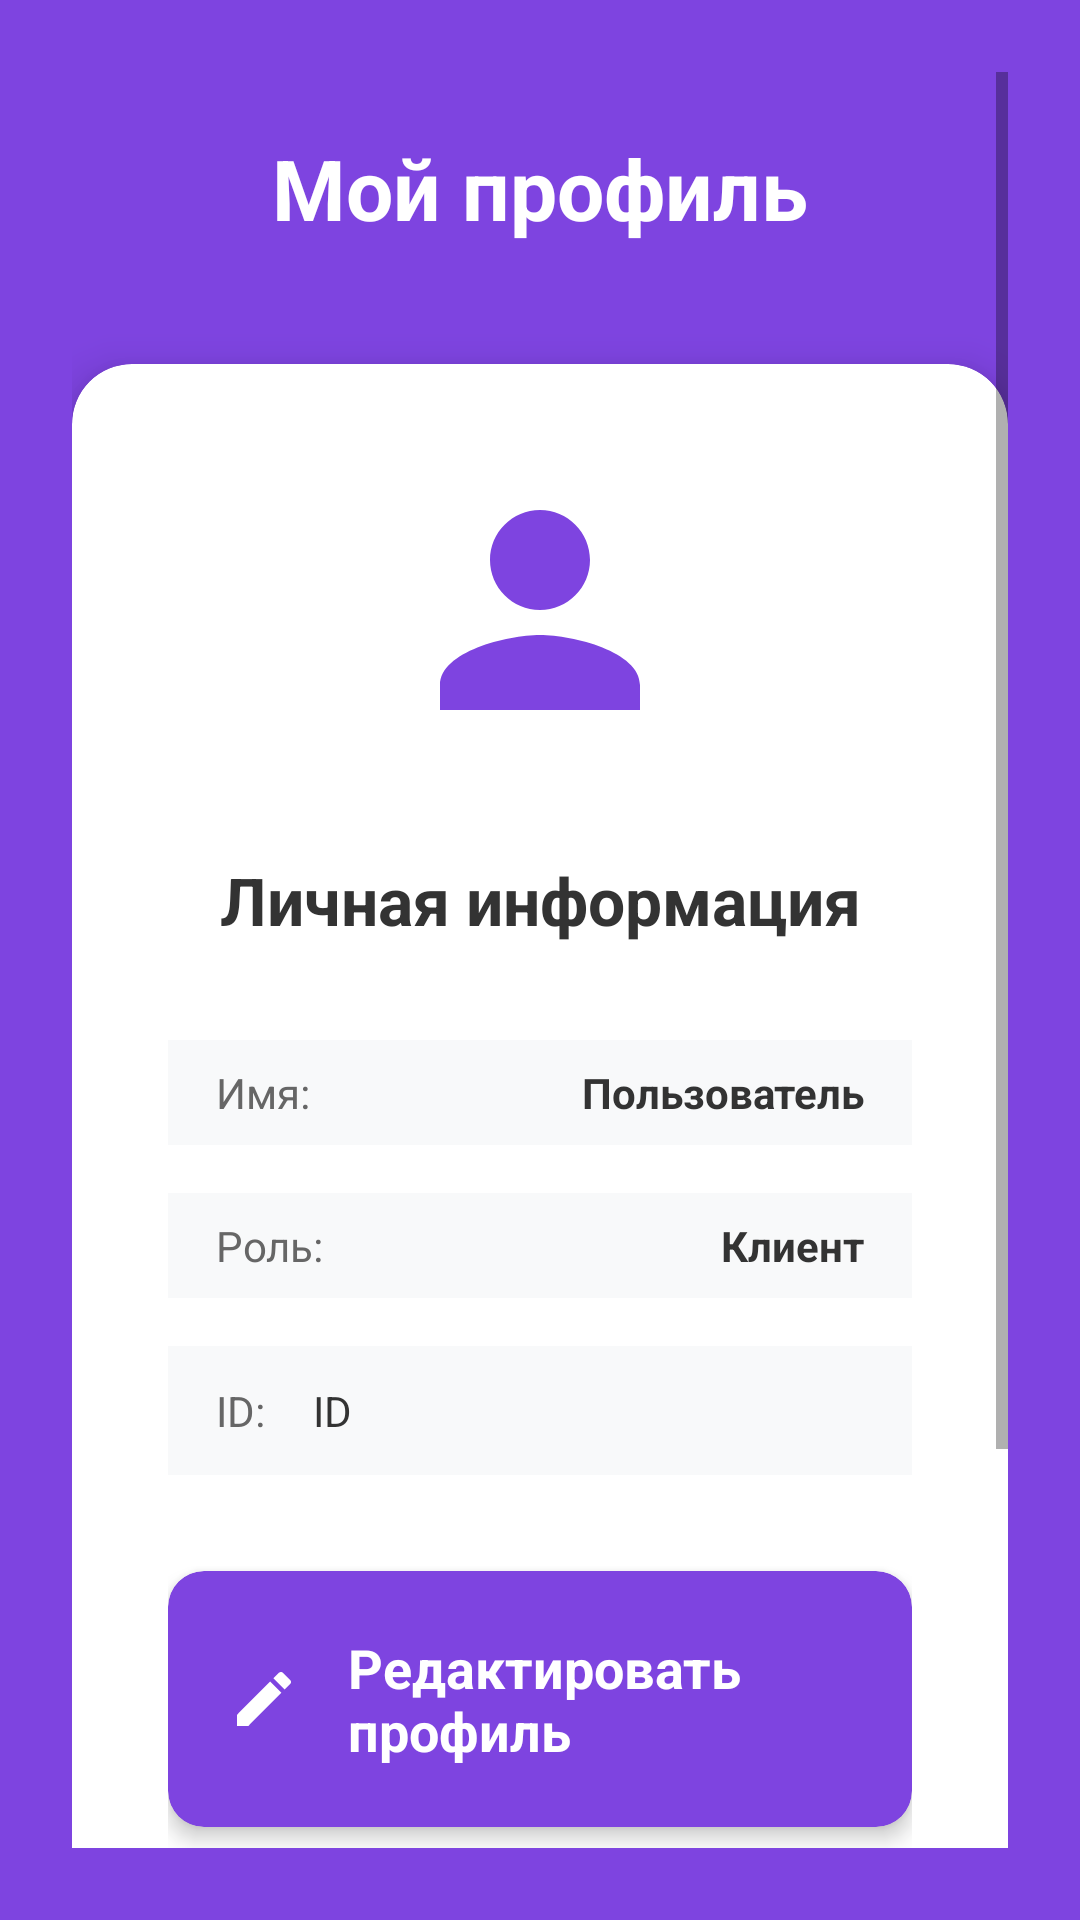

Where icons sit on this 1080x1920 app screen, as (x1, y1, x2, y2):
Профиль: (440, 510, 640, 710)
